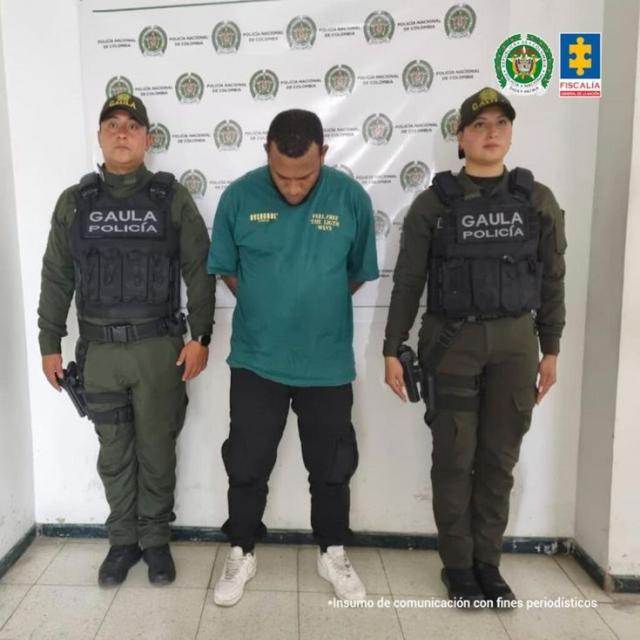9_cabeza_baja: (262, 110, 330, 203)
